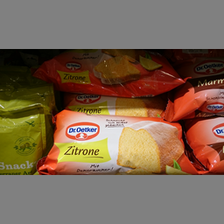cake: (38, 109, 192, 171), (35, 51, 188, 98)
